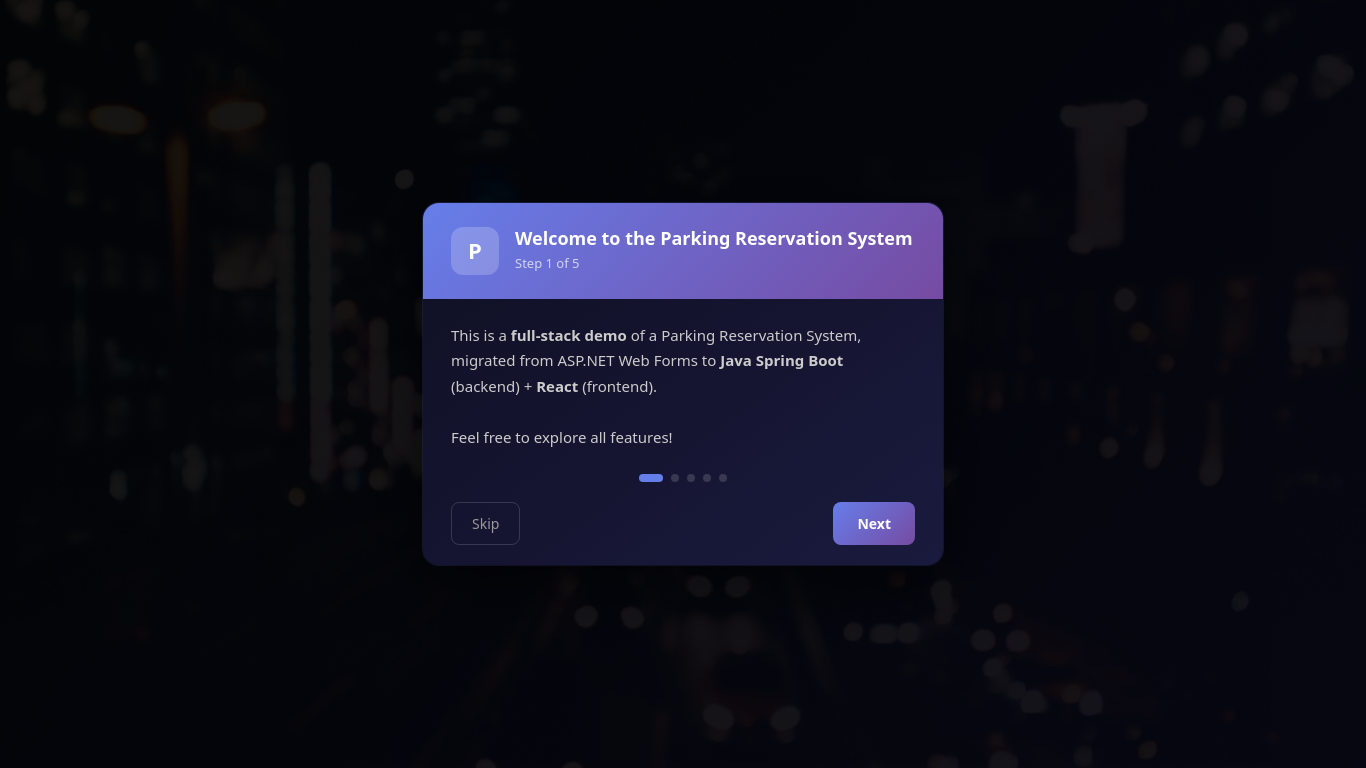
Test case: DemoGuide › should navigate to next step when Next is clicked
The width and height of the screenshot is (1366, 768).
What coordinates should you click on to do the following:
click the button "Next"
I would click on:
 (874, 524)
Its box is [834,502,915,545].
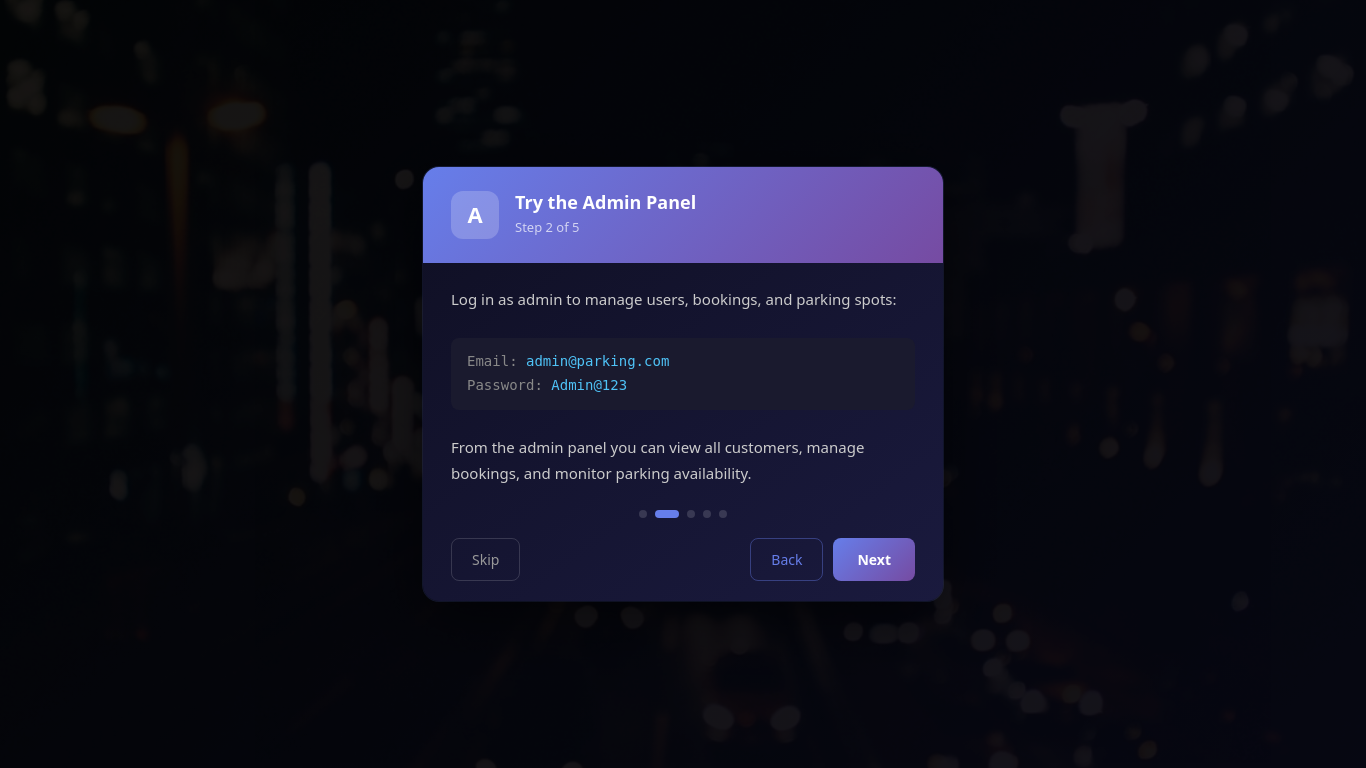
Expected: the text "Step 2 of 5" is shown, [515,218,580,236]
Expected: the heading "Try the Admin Panel" is shown, [515,192,696,214]
